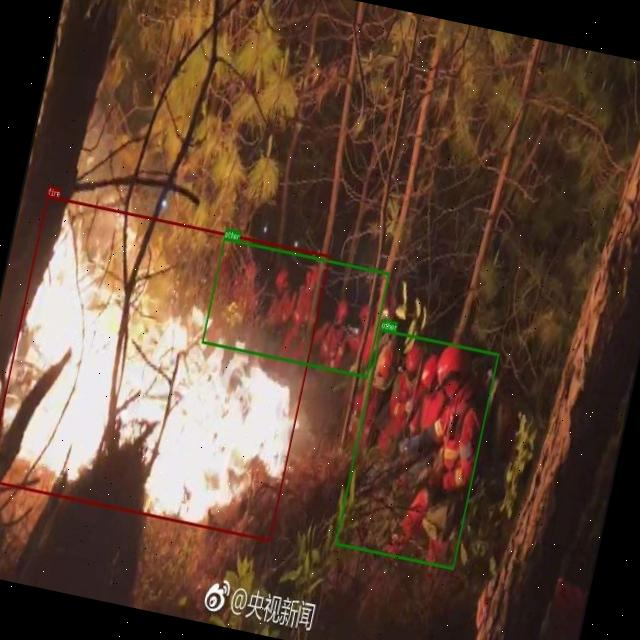fire: (0, 194, 330, 540)
